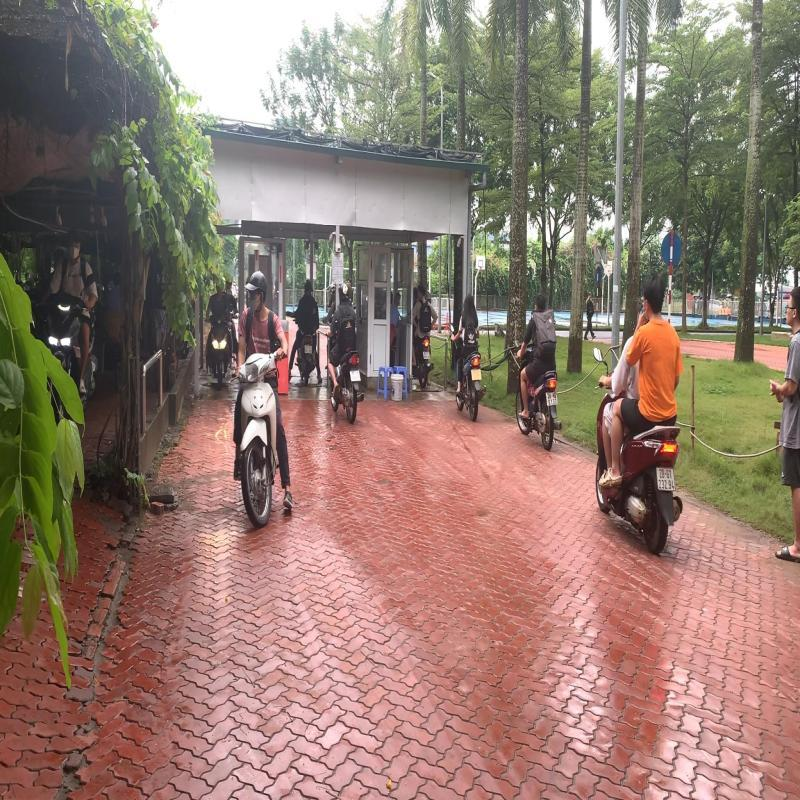licenseplate: (656, 466, 676, 492)
motorcyclist: (592, 272, 686, 557)
nohelmet: (642, 274, 666, 318)
